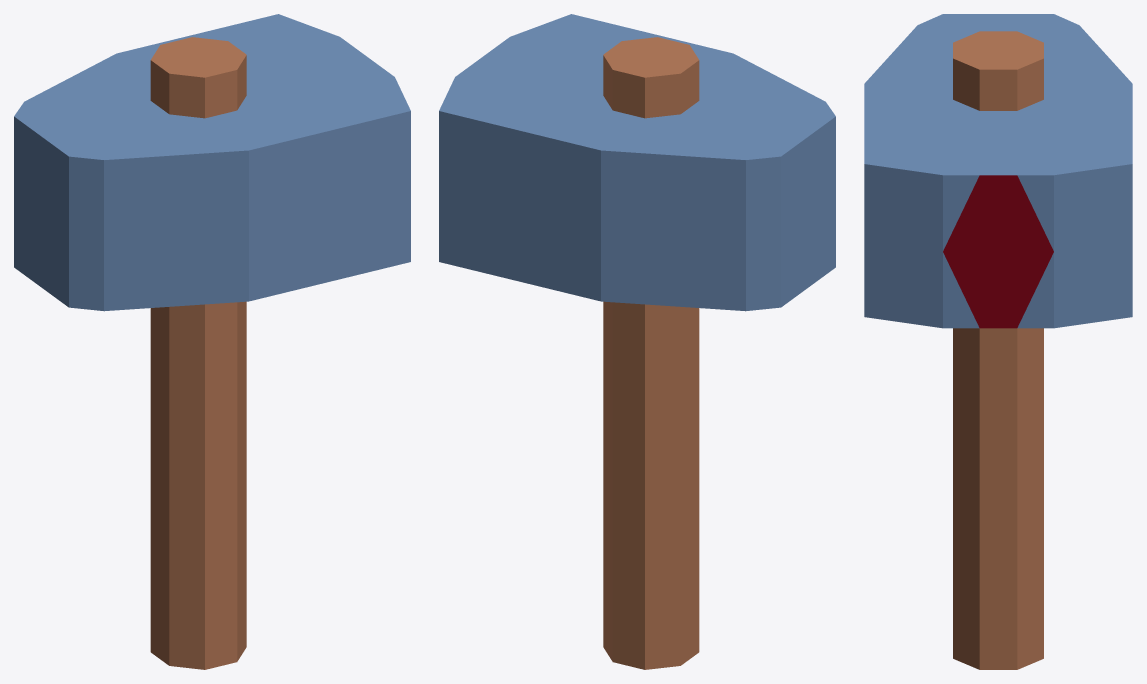
Rendered from Hammer_4_dev.fbx.
3 renders of one model, left to right at view 1: azimuth 30°, elevation 25°; view 2: azimuth 150°, elevation 25°; view 3: azimuth 270°, elevation 25°, orthographic.
Parts seen in each view (by area): view 1: Hammer; view 2: Hammer; view 3: Hammer.
Part boxes in pixels (x1,y1,x2,y2): Hammer: (14,14,410,669); Hammer: (439,14,835,669); Hammer: (864,14,1132,669).
Bounding box in the file's own units: 125 × 218 × 88.19.
1 material, 1 textured.
